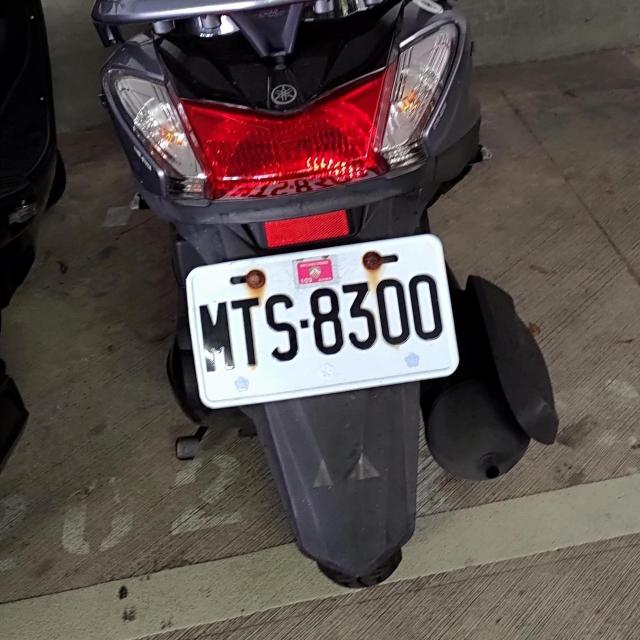W: (178, 226, 464, 408)
